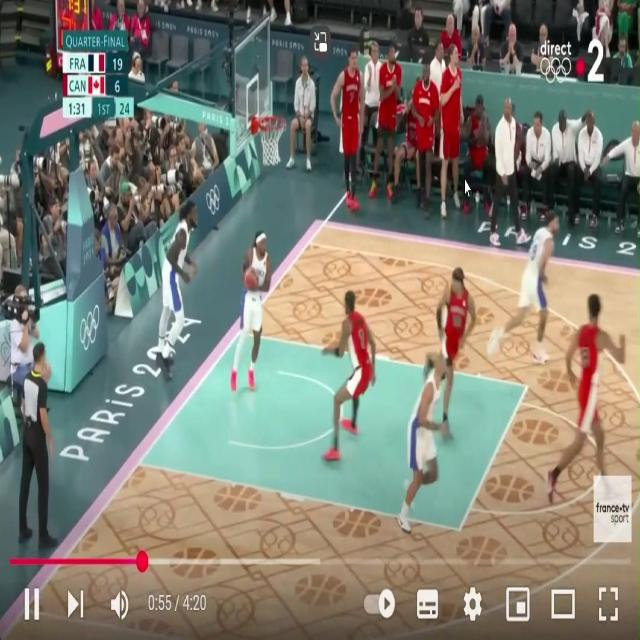ball_handler: (232, 230, 271, 392)
